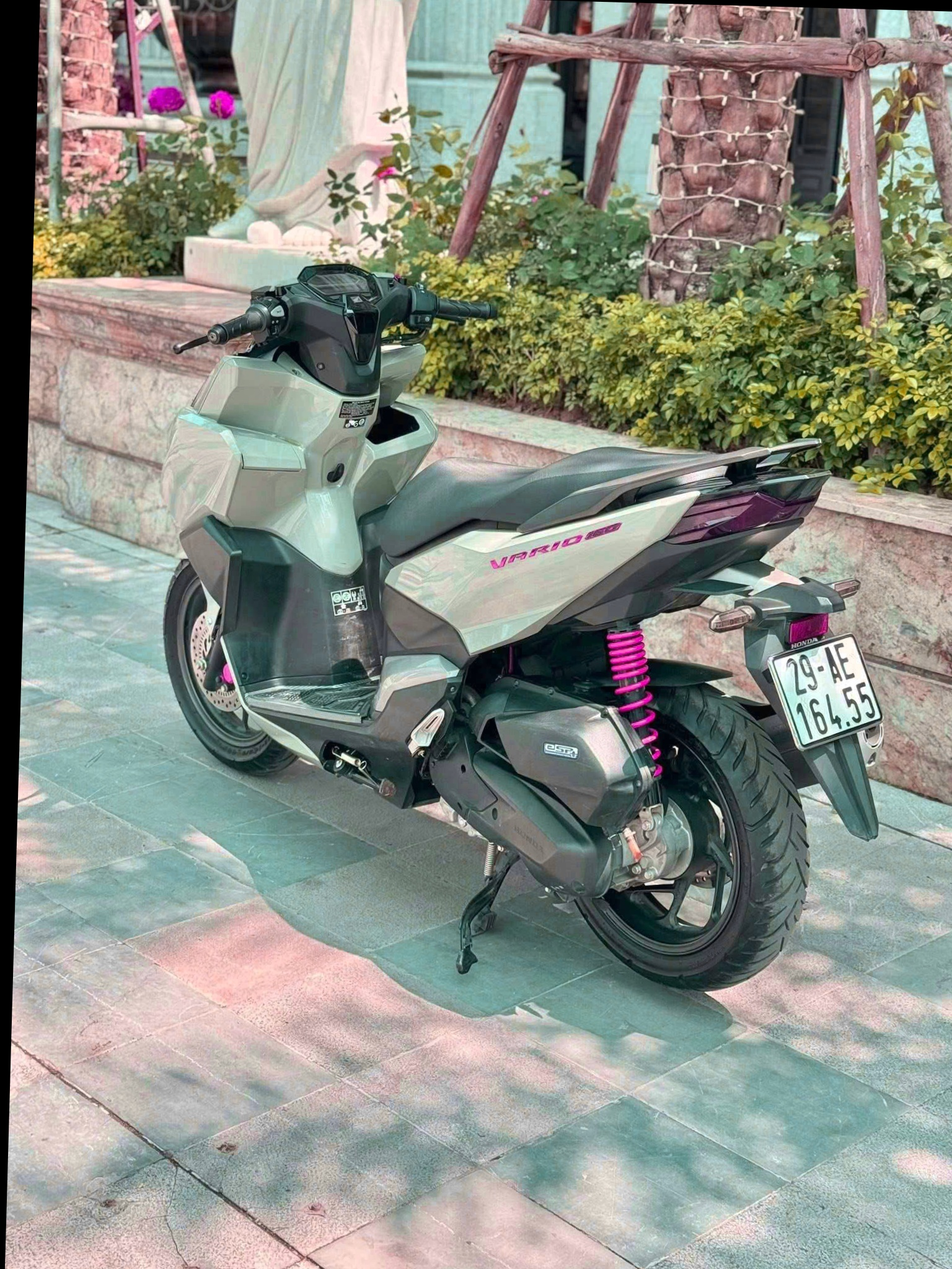Bien-so: (719, 640, 847, 770)
